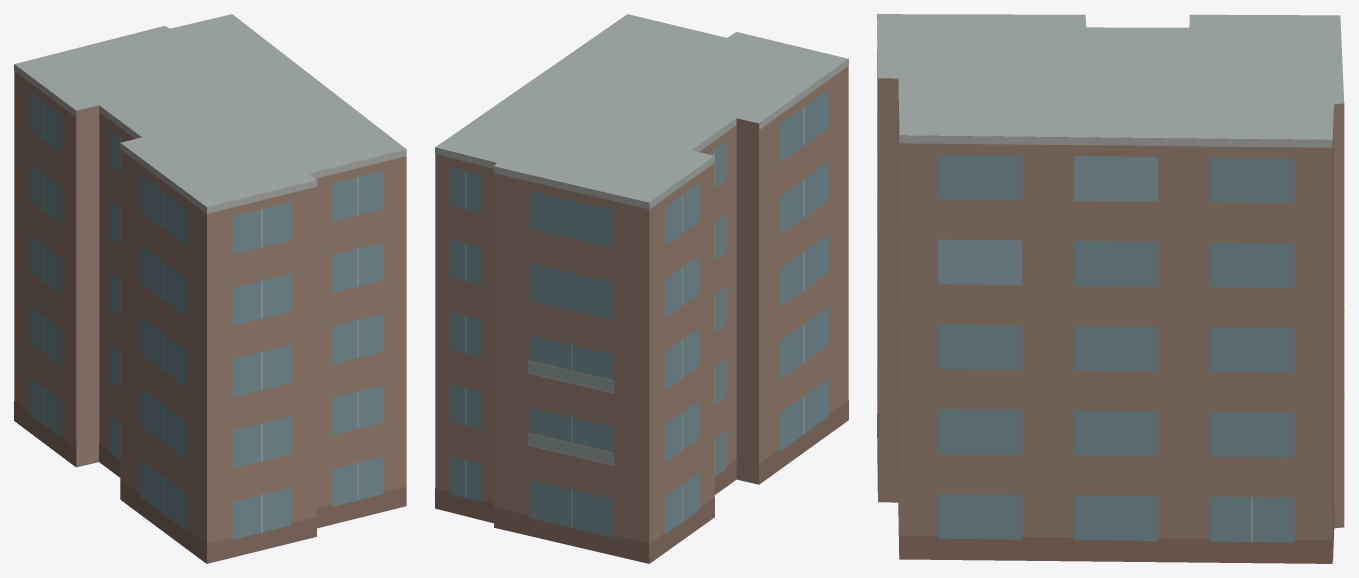
Rendered from survey-upis-32768868.glb.
The picture shows the model from 3 angles, left to right: view 1: azimuth 30°, elevation 25°; view 2: azimuth 150°, elevation 25°; view 3: azimuth 270°, elevation 25°; orthographic projection. The views are drawn at different scales.
Visible parts, largest first — view 1: survey-upis-32768868.tmp; view 2: survey-upis-32768868.tmp; view 3: survey-upis-32768868.tmp.
Boxes of the visible parts, x1,y1,x2,y2 form: survey-upis-32768868.tmp: (14, 14, 406, 563); survey-upis-32768868.tmp: (435, 14, 848, 563); survey-upis-32768868.tmp: (877, 14, 1344, 563).
Bounding box in the file's own units: 8.28 × 13 × 13.
